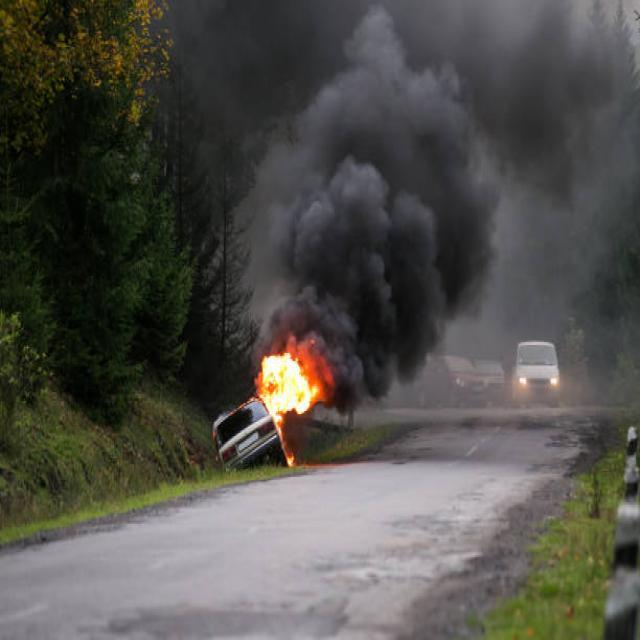Fire: (261, 351, 322, 420)
Smoke: (184, 0, 639, 419)
